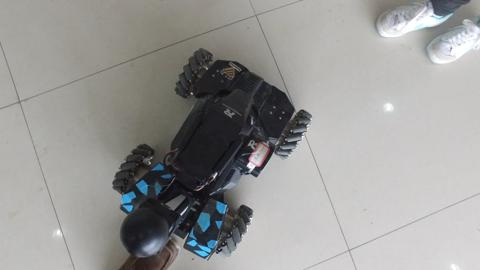chariot: (99, 41, 302, 249)
